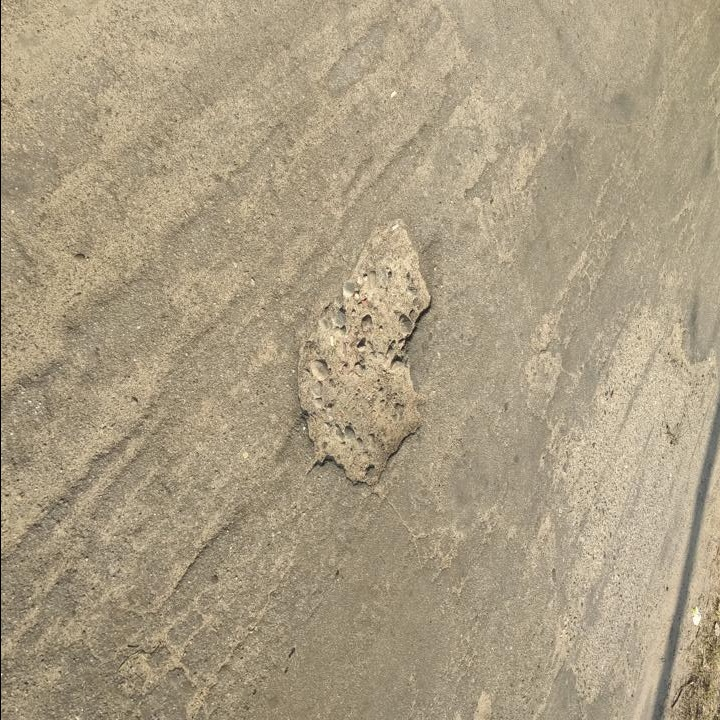pothole: (296, 219, 435, 489)
